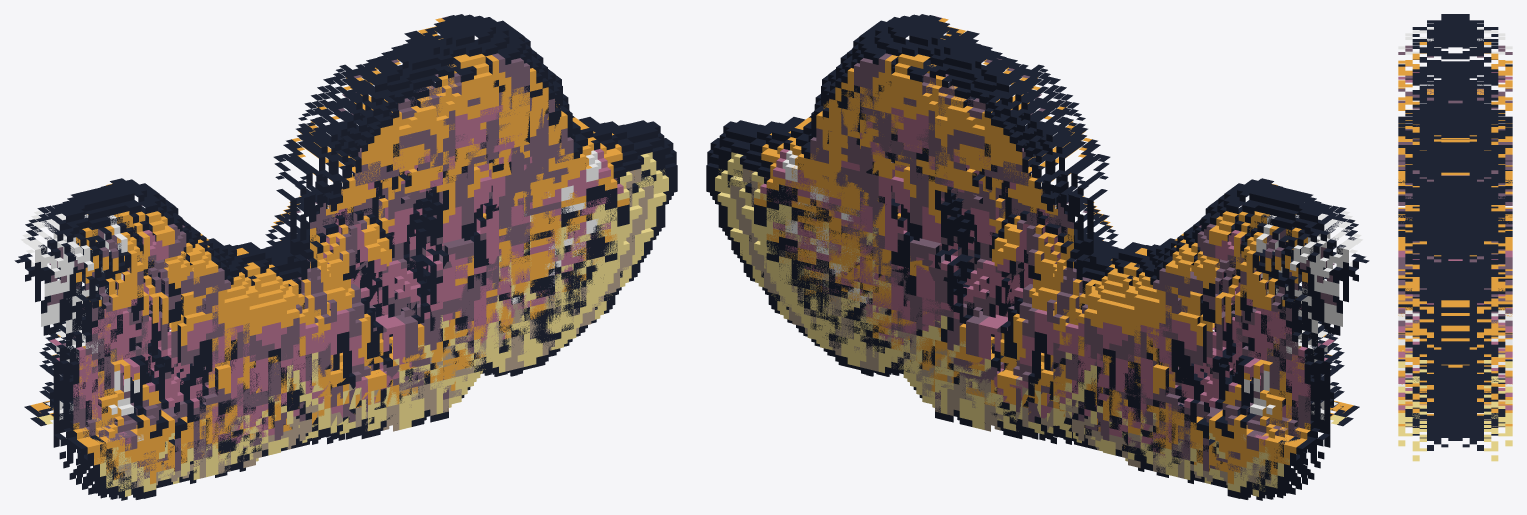
Rendered from cobra_andando.glb.
The picture shows the model from 3 angles, left to right: view 1: azimuth 30°, elevation 25°; view 2: azimuth 150°, elevation 25°; view 3: azimuth 270°, elevation 25°; orthographic projection.
Visible parts, largest first — view 1: q0, q1, q2, q6, q3, q7, q5, q4; view 2: q0, q1, q2, q6, q3, q7, q5, q4; view 3: q7, q6, q0, q1, q2, q5, q3, q4.
Part boxes in pixels (bbox=[...]): q0: bbox=[21, 39, 665, 498]; q1: bbox=[14, 14, 652, 497]; q2: bbox=[30, 30, 621, 500]; q6: bbox=[49, 116, 665, 477]; q3: bbox=[39, 64, 622, 481]; q7: bbox=[47, 69, 677, 499]; q5: bbox=[43, 177, 604, 476]; q4: bbox=[54, 103, 586, 471]; q0: bbox=[718, 39, 1362, 498]; q1: bbox=[731, 14, 1369, 497]; q2: bbox=[763, 30, 1353, 500]; q6: bbox=[718, 116, 1334, 477]; q3: bbox=[762, 64, 1344, 481]; q7: bbox=[706, 69, 1336, 499]; q5: bbox=[779, 177, 1340, 476]; q4: bbox=[797, 103, 1325, 471]; q7: bbox=[1398, 26, 1512, 429]; q6: bbox=[1398, 61, 1512, 427]; q0: bbox=[1398, 14, 1512, 433]; q1: bbox=[1398, 38, 1512, 447]; q2: bbox=[1398, 47, 1512, 461]; q5: bbox=[1398, 78, 1512, 383]; q3: bbox=[1398, 132, 1512, 451]; q4: bbox=[1398, 135, 1512, 418].
Size of the model in its own units: 104 by 58 by 16.
Materials: 1 (1 with a texture image).
